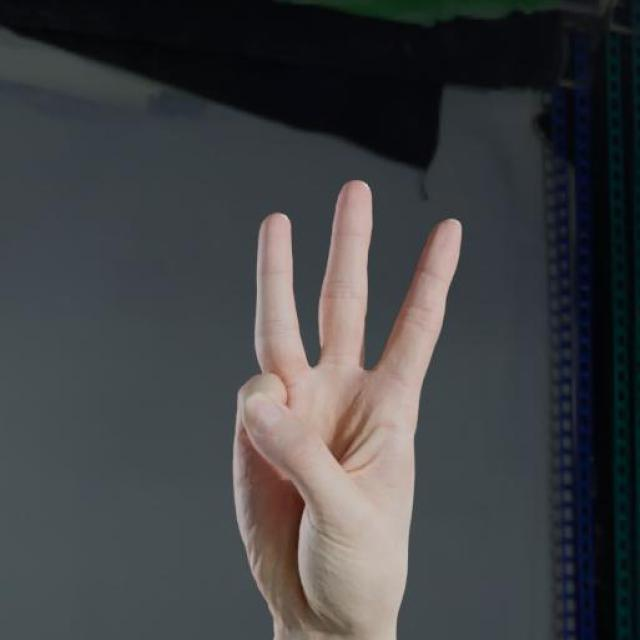W: (201, 162, 471, 640)
